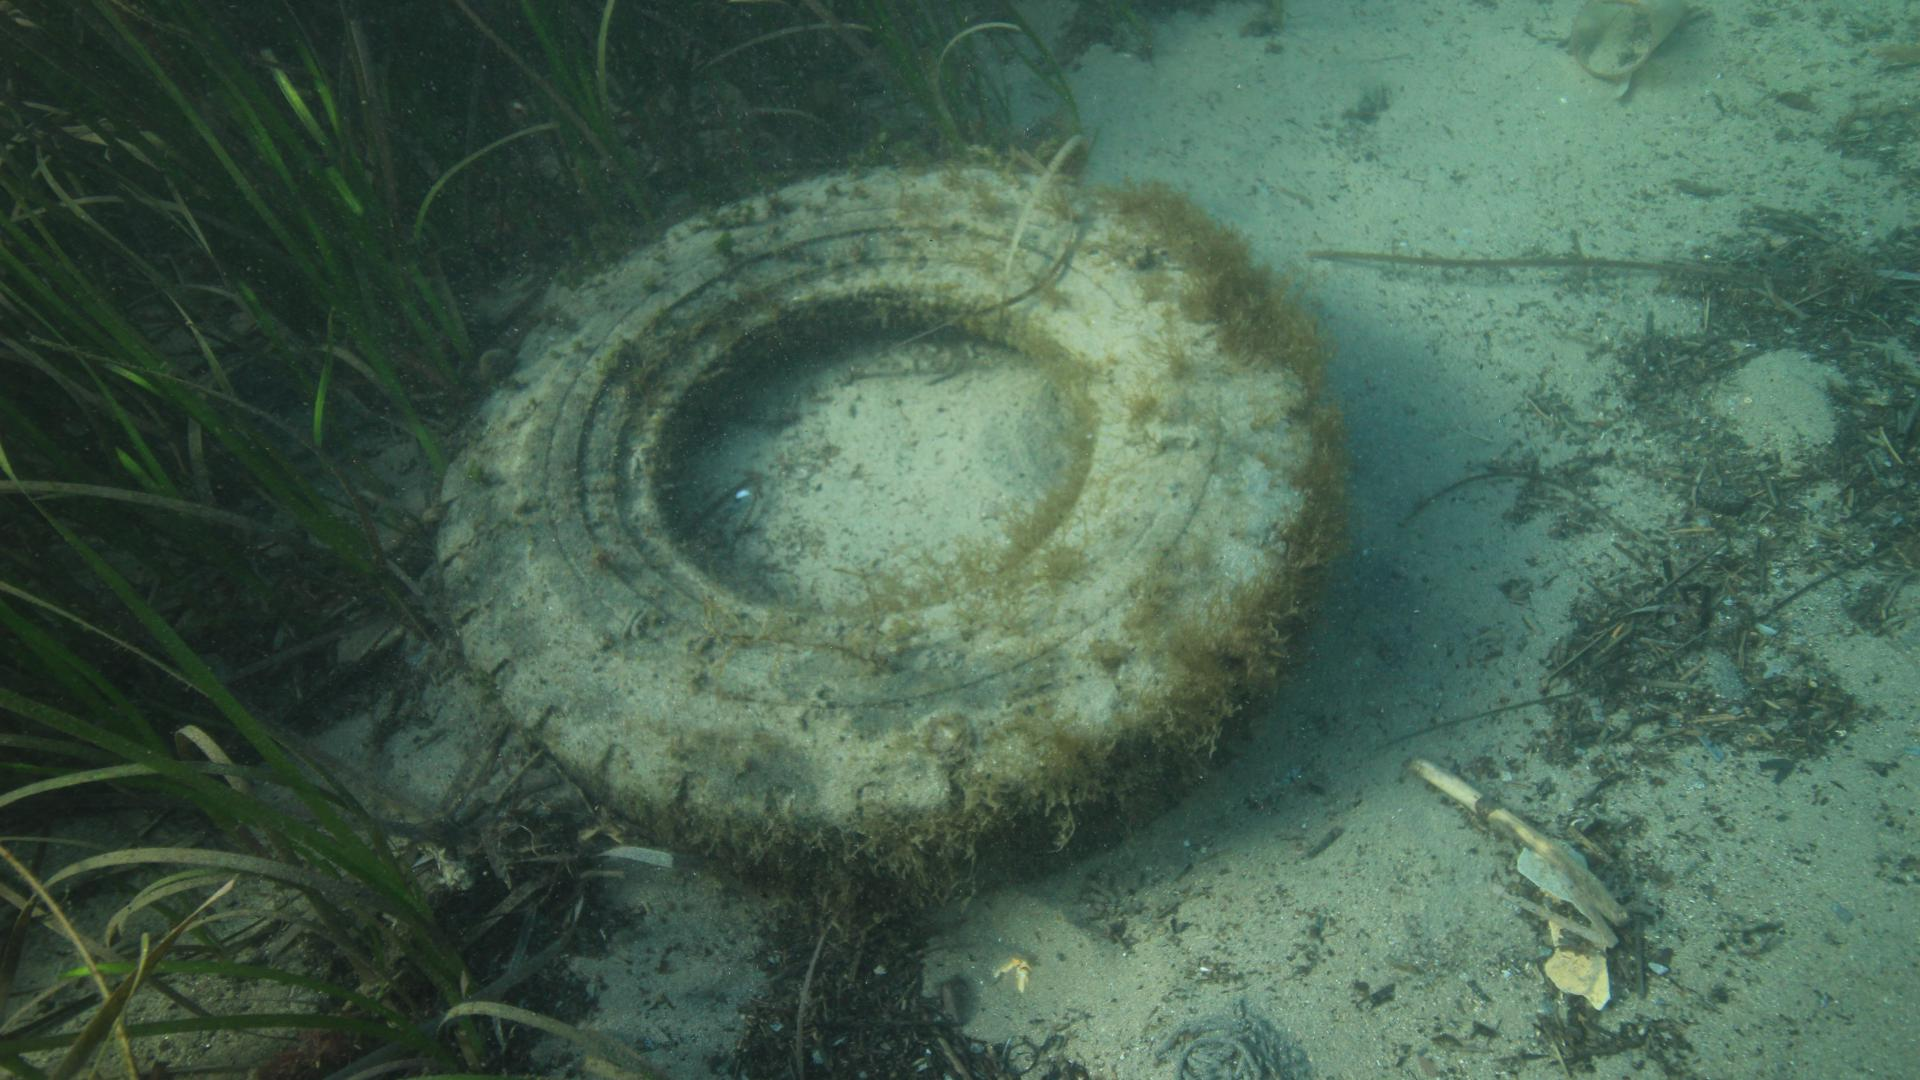tire: (433, 161, 1315, 909)
